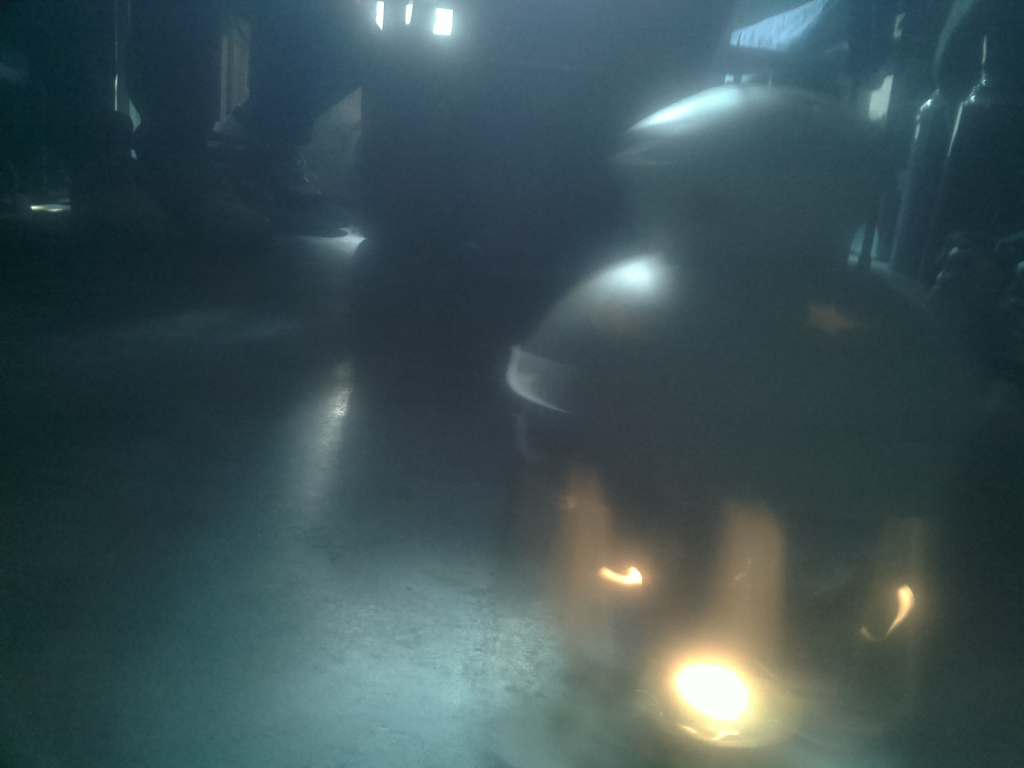fire: (613, 650, 829, 732)
